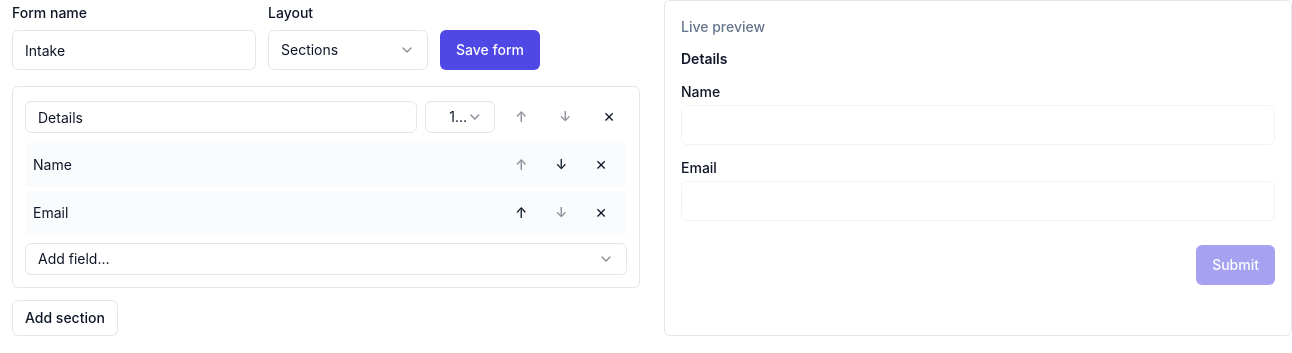
Scenario: FormBuilder › changes the section column count
Click the dropdown named "Columns": [460, 117] box [425,101,495,133]
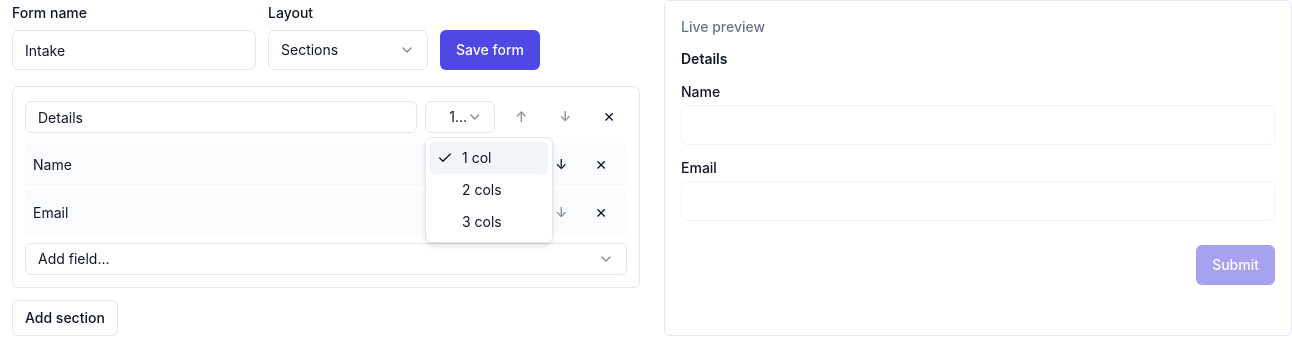
Click the option "2 cols": [482, 190] box [462,181,502,198]
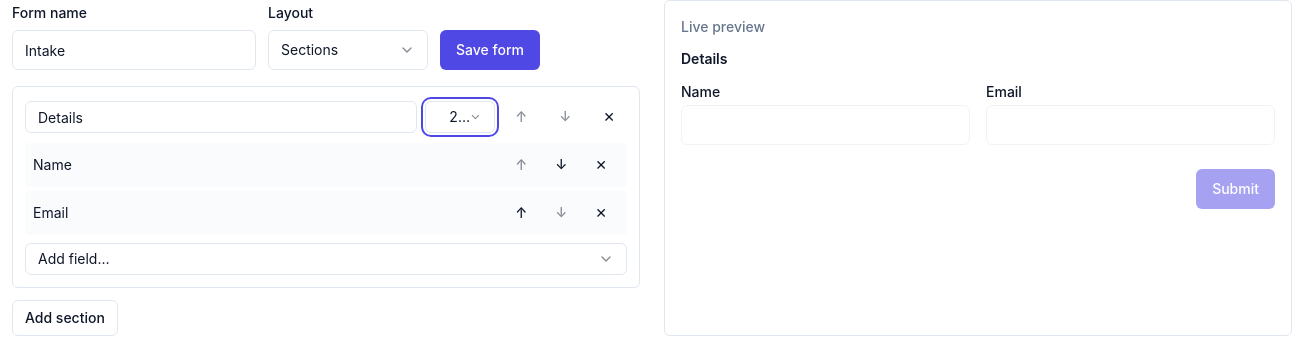
Now the dropdown named "Columns" reads "2 cols", box [425,101,495,133]
